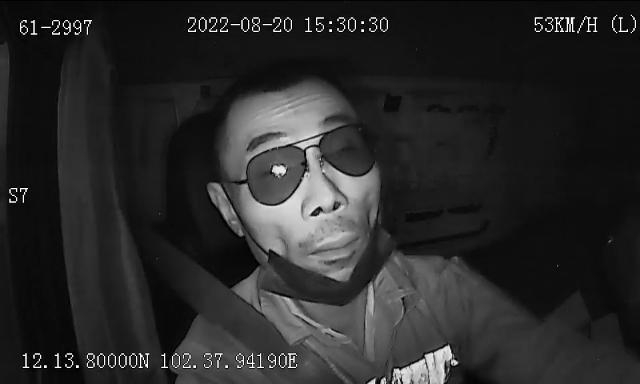SafeDriving: (260, 156, 298, 186)
Seatbelt: (120, 220, 316, 384)
